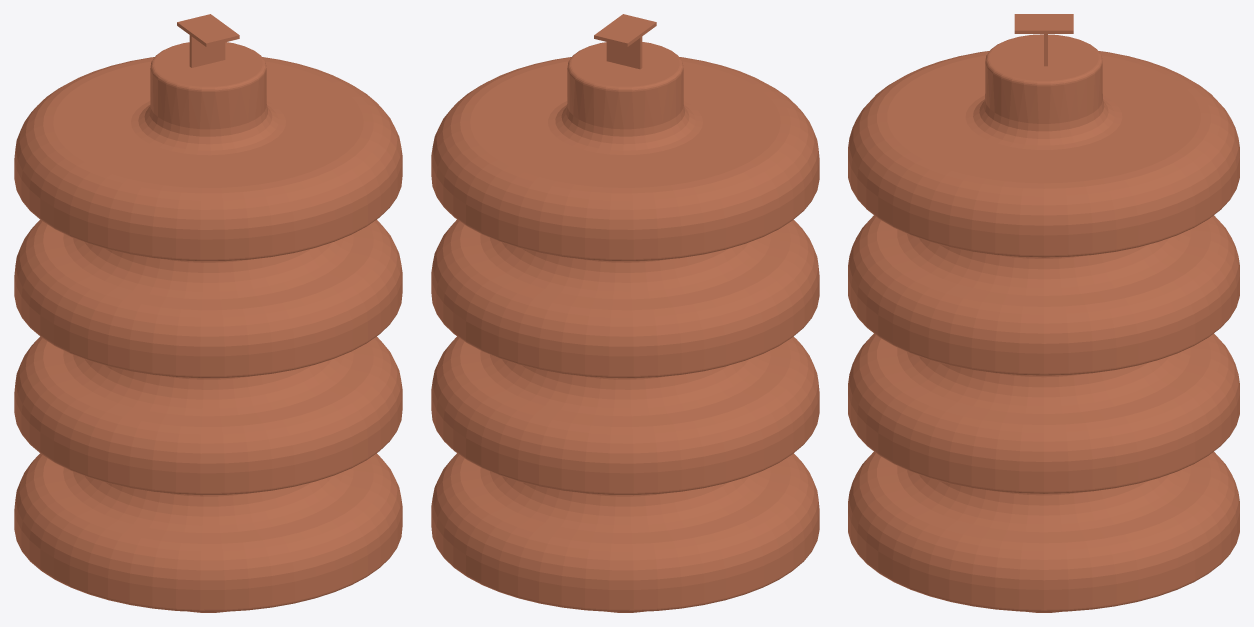
File: isol_brown.glb
3 views of the same model, side by side, from view 1: azimuth 30°, elevation 25°; view 2: azimuth 150°, elevation 25°; view 3: azimuth 270°, elevation 25° (orthographic).
Parts seen in each view (by area): view 1: Изолятор; view 2: Изолятор; view 3: Изолятор.
Boxes of the visible parts, x1=… form: Изолятор: x1=14, y1=14, x2=402, y2=612; Изолятор: x1=431, y1=14, x2=819, y2=612; Изолятор: x1=848, y1=14, x2=1239, y2=612.
Bounding box in the file's own units: 0.1 × 0.1594 × 0.0998.
